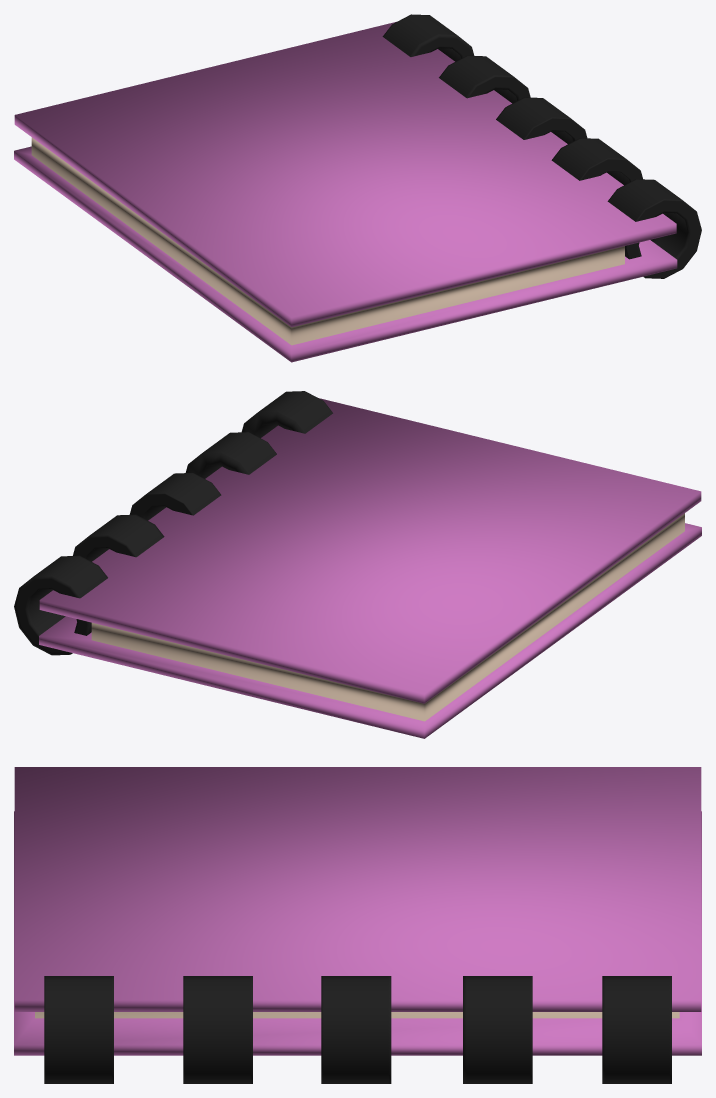
The model's file is libretaRosa.fbx.
3 views of the same model, one above another, from view 1: azimuth 30°, elevation 25°; view 2: azimuth 150°, elevation 25°; view 3: azimuth 270°, elevation 25° (orthographic). The views are drawn at different scales.
Parts seen in each view (by area): view 1: Cube; view 2: Cube; view 3: Cube.
Part boxes in pixels (x1,y1,x2,y2): Cube: (14,14,701,362); Cube: (14,391,701,738); Cube: (14,767,701,1083).
Bounding box in the file's own units: 217 × 38.94 × 247.
